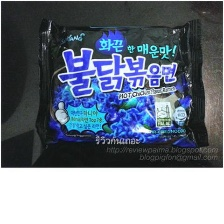snack: (28, 12, 212, 156)
